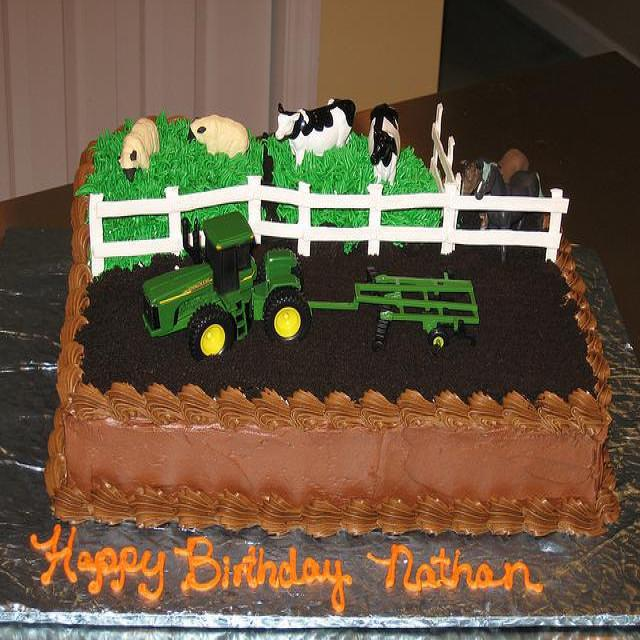Sheep: (118, 117, 162, 184)
